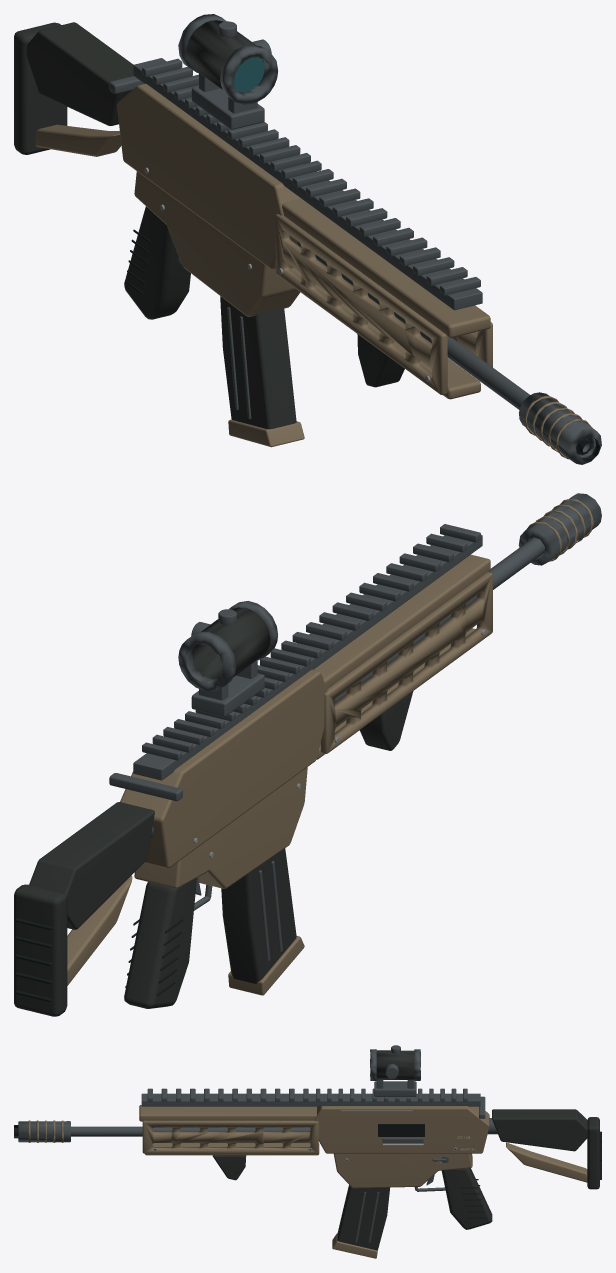
Rendered from m2_rifle.glb.
3 renders of one model, top to bottom at view 1: azimuth 30°, elevation 25°; view 2: azimuth 150°, elevation 25°; view 3: azimuth 270°, elevation 25°, orthographic. The views are drawn at different scales.
Visible parts, largest first — view 1: m2_rifle_nc7_coating, m2_rifle_nc7_polymer, m2_rifle_nc7_alloy, m2_rifle_nc7_lens, m2_rifle_nc7_dark; view 2: m2_rifle_nc7_coating, m2_rifle_nc7_polymer, m2_rifle_nc7_alloy, m2_rifle_nc7_dark; view 3: m2_rifle_nc7_coating, m2_rifle_nc7_polymer, m2_rifle_nc7_alloy, m2_rifle_nc7_dark, m2_rifle_nc7_edge.
Boxes of the visible parts, <box> form: m2_rifle_nc7_coating: <box>35,83,592,459</box>; m2_rifle_nc7_polymer: <box>14,20,404,429</box>; m2_rifle_nc7_alloy: <box>109,14,601,464</box>; m2_rifle_nc7_lens: <box>234,57,264,92</box>; m2_rifle_nc7_dark: <box>125,229,599,460</box>; m2_rifle_nc7_coating: <box>67,498,593,995</box>; m2_rifle_nc7_polymer: <box>14,607,413,1016</box>; m2_rifle_nc7_alloy: <box>109,493,601,961</box>; m2_rifle_nc7_dark: <box>15,918,183,1002</box>; m2_rifle_nc7_coating: <box>28,1105,587,1258</box>; m2_rifle_nc7_polymer: <box>212,1050,599,1250</box>; m2_rifle_nc7_alloy: <box>18,1045,497,1242</box>; m2_rifle_nc7_dark: <box>14,1124,601,1218</box>; m2_rifle_nc7_edge: <box>153,1110,457,1163</box>.
Size of the model in its own units: 0.0765 by 0.4145 by 1.06.
